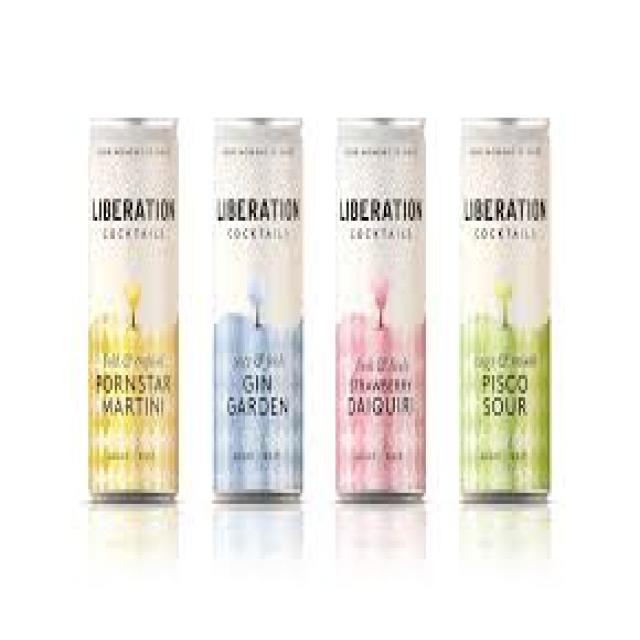Cans: (75, 100, 194, 522), (448, 103, 565, 522), (198, 110, 316, 522), (324, 103, 435, 515)
